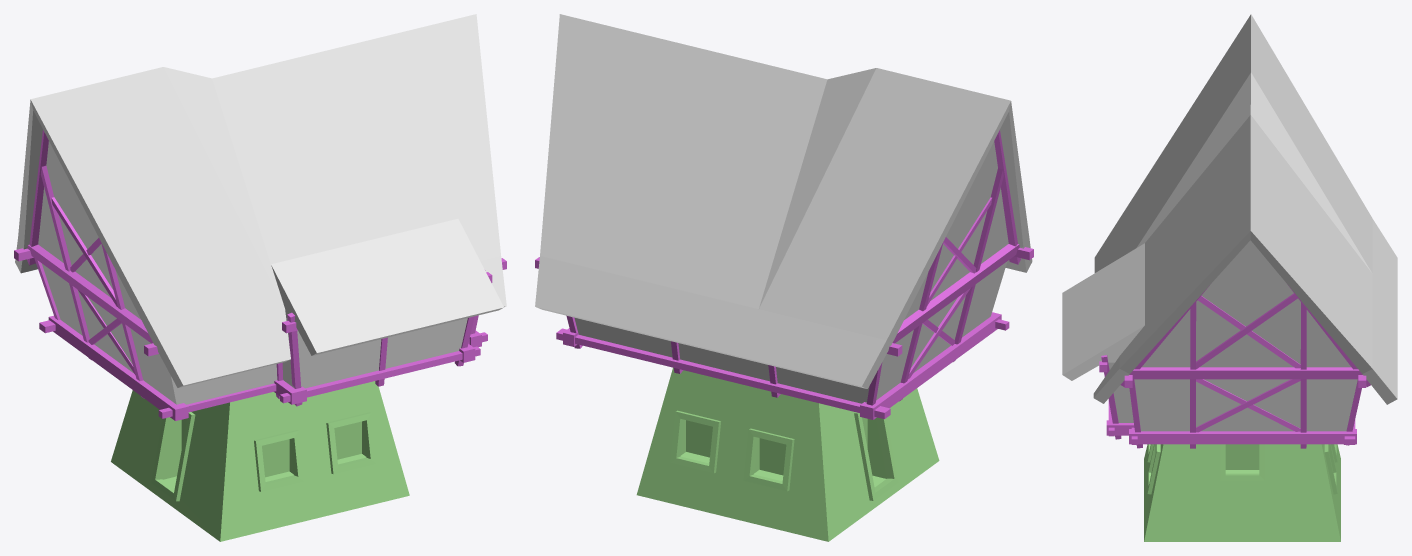
The model's file is MaisonLOw.fbx.
3 renders of one model, left to right at view 1: azimuth 30°, elevation 25°; view 2: azimuth 150°, elevation 25°; view 3: azimuth 270°, elevation 25°, orthographic. The views are drawn at different scales.
Parts seen in each view (by area): view 1: MaisonLow; view 2: MaisonLow; view 3: MaisonLow.
Boxes of the visible parts, left/top/right/bottom form: MaisonLow: left=14, top=14, right=506, bottom=541; MaisonLow: left=535, top=14, right=1033, bottom=541; MaisonLow: left=1062, top=14, right=1397, bottom=541.
Bounding box in the file's own units: 1672 × 1544 × 1210.
